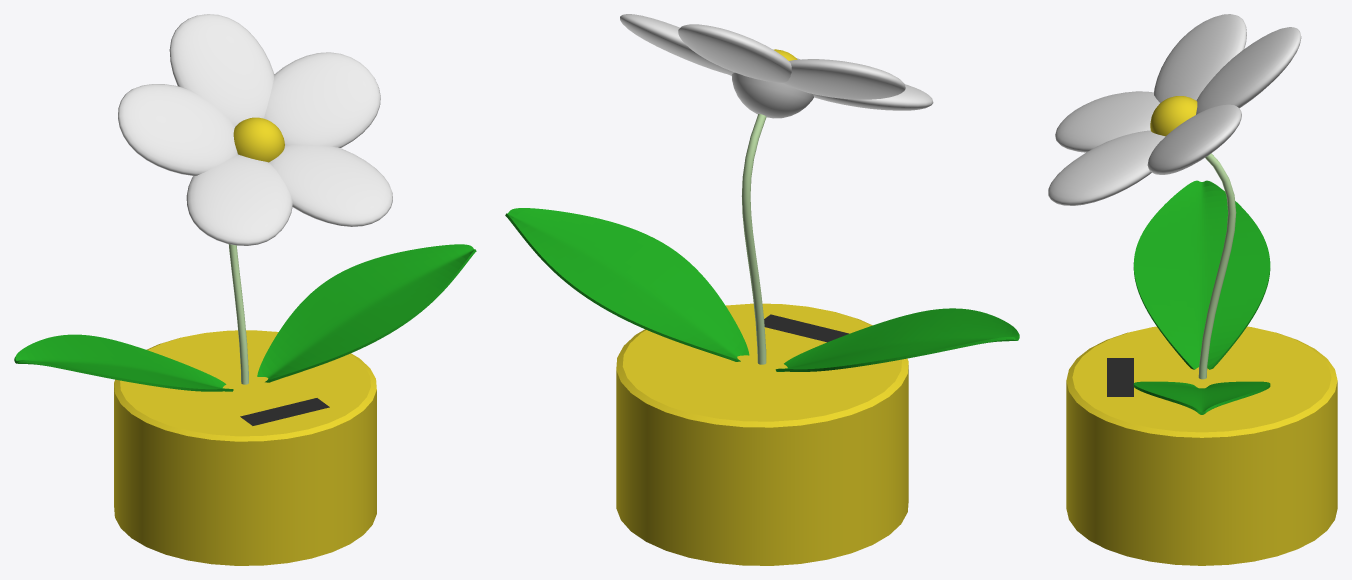
Rendered from ダンシングフラワー.fbx.
The picture shows the model from 3 angles, left to right: view 1: azimuth 30°, elevation 25°; view 2: azimuth 150°, elevation 25°; view 3: azimuth 270°, elevation 25°; orthographic projection. The views are drawn at different scales.
Parts seen in each view (by area): view 1: 円柱, 平面.001, 立方体.004, 立方体, 立方体.001, 立方体.003, 立方体.005, 平面.002, 球, ベジエカーブ, 平面; view 2: 円柱, 平面.001, 平面.002, 立方体, 立方体.001, ベジエカーブ, 球.001, 立方体.004, 立方体.003, 平面; view 3: 円柱, 平面.002, 立方体.005, 立方体.001, 立方体, 立方体.003, 立方体.004, 平面.001, ベジエカーブ, 球, 平面.
Part boxes in pixels (bbox=[...]): 円柱: bbox=[114, 330, 376, 565]; 平面.001: bbox=[257, 244, 476, 382]; 立方体.004: bbox=[264, 52, 380, 147]; 立方体: bbox=[169, 14, 274, 126]; 立方体.001: bbox=[118, 84, 237, 175]; 立方体.003: bbox=[186, 154, 292, 245]; 立方体.005: bbox=[269, 144, 392, 226]; 平面.002: bbox=[14, 334, 233, 391]; 球: bbox=[233, 117, 284, 162]; ベジエカーブ: bbox=[228, 244, 248, 384]; 平面: bbox=[240, 398, 329, 425]; 円柱: bbox=[616, 303, 908, 565]; 平面.001: bbox=[505, 208, 749, 361]; 平面.002: bbox=[775, 308, 1019, 371]; 立方体: bbox=[678, 24, 791, 82]; 立方体.001: bbox=[783, 59, 905, 99]; ベジエカーブ: bbox=[741, 114, 766, 364]; 球.001: bbox=[731, 72, 813, 118]; 立方体.004: bbox=[620, 14, 734, 75]; 立方体.003: bbox=[813, 84, 933, 110]; 平面: bbox=[764, 314, 848, 342]; 円柱: bbox=[1066, 326, 1337, 565]; 平面.002: bbox=[1133, 180, 1270, 369]; 立方体.005: bbox=[1048, 130, 1165, 205]; 立方体.001: bbox=[1154, 14, 1246, 102]; 立方体: bbox=[1196, 27, 1301, 114]; 立方体.003: bbox=[1055, 91, 1159, 152]; 立方体.004: bbox=[1147, 104, 1241, 174]; 平面.001: bbox=[1133, 381, 1270, 414]; ベジエカーブ: bbox=[1198, 153, 1236, 379]; 球: bbox=[1150, 96, 1197, 136]; 平面: bbox=[1107, 358, 1133, 396].
Bounding box in the file's own units: 403 × 386 × 213.
